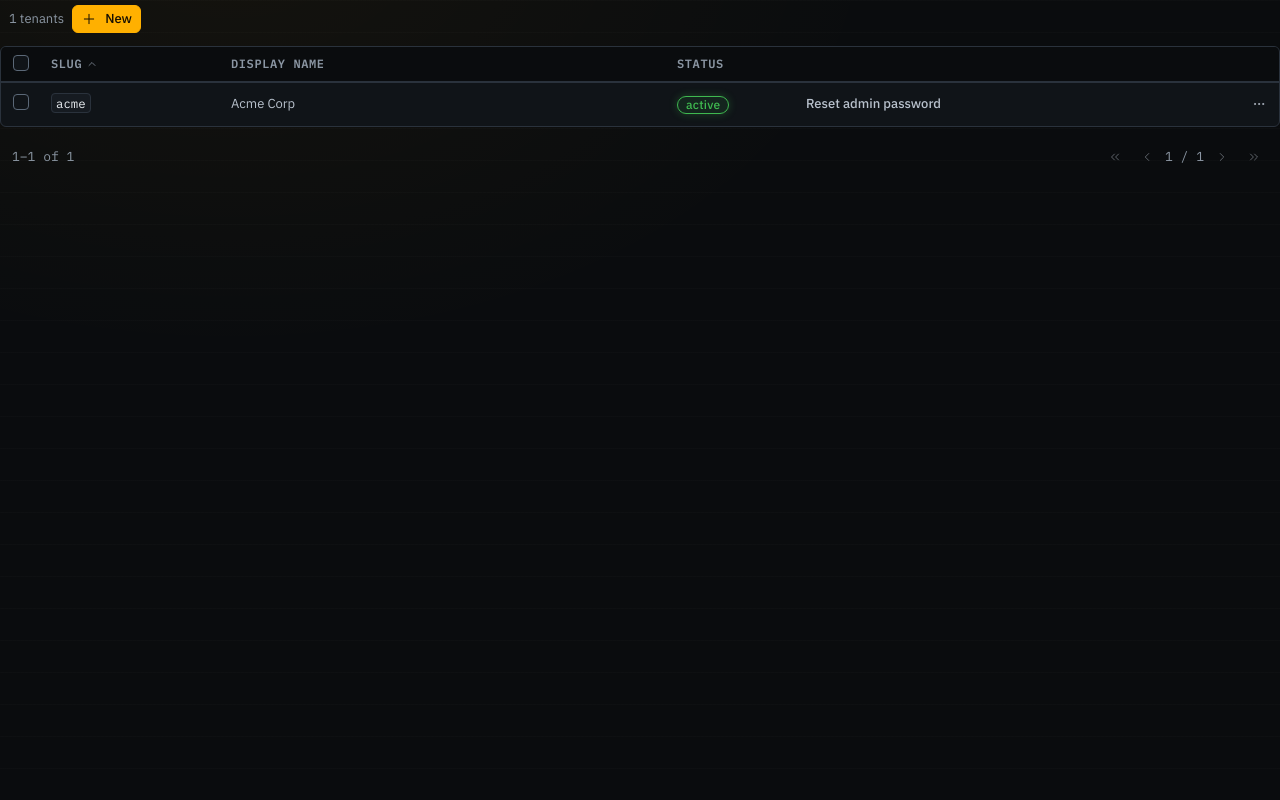
Scenario: TenantsPage › confirms, then shows the one-time password after Reset admin password
Click the button "Reset admin password": point(874, 104) [797,90,950,118]
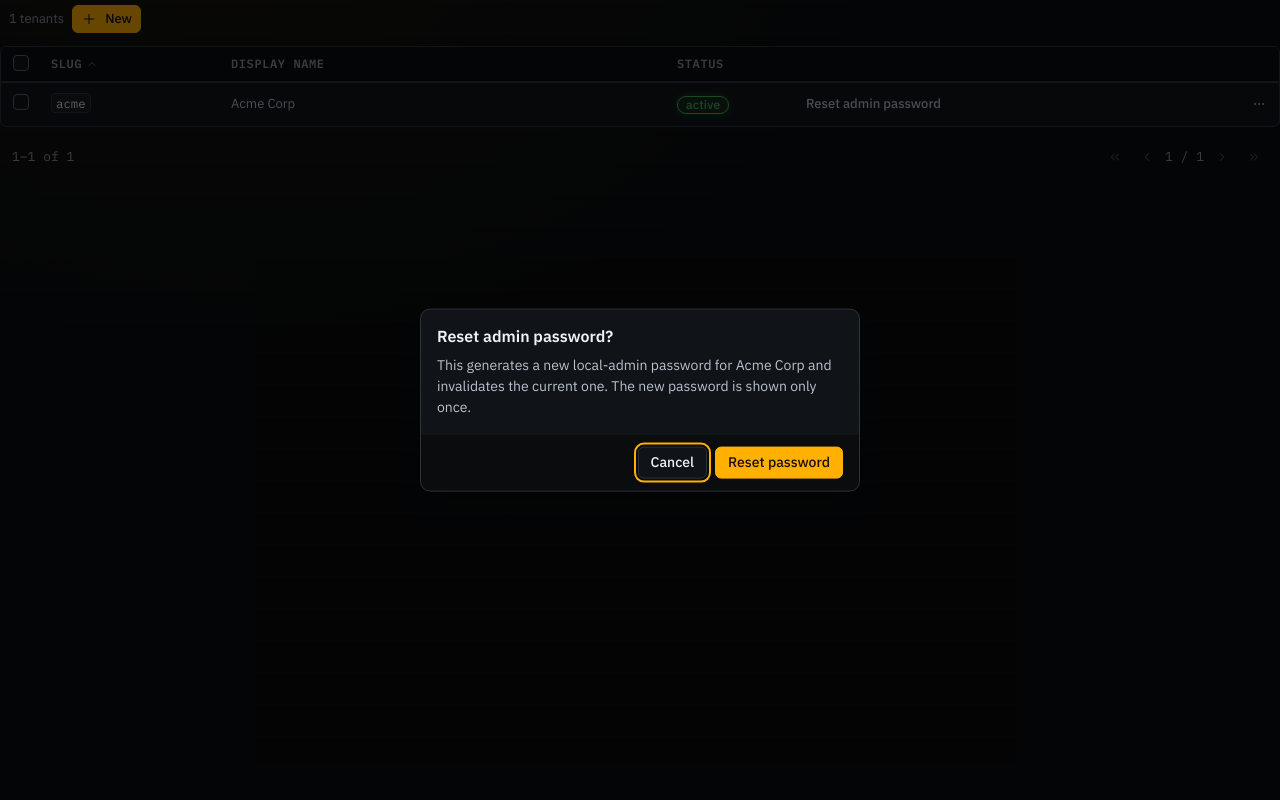
Expected: the field showing "NEWPWNEWPWNEWPWNEWPWNEWPWNEWPWNE" is not shown
Now the heading "Reset admin password?" is shown, box [437,326,613,346]
Click the button "Reset password": point(779, 462) [715,446,843,478]
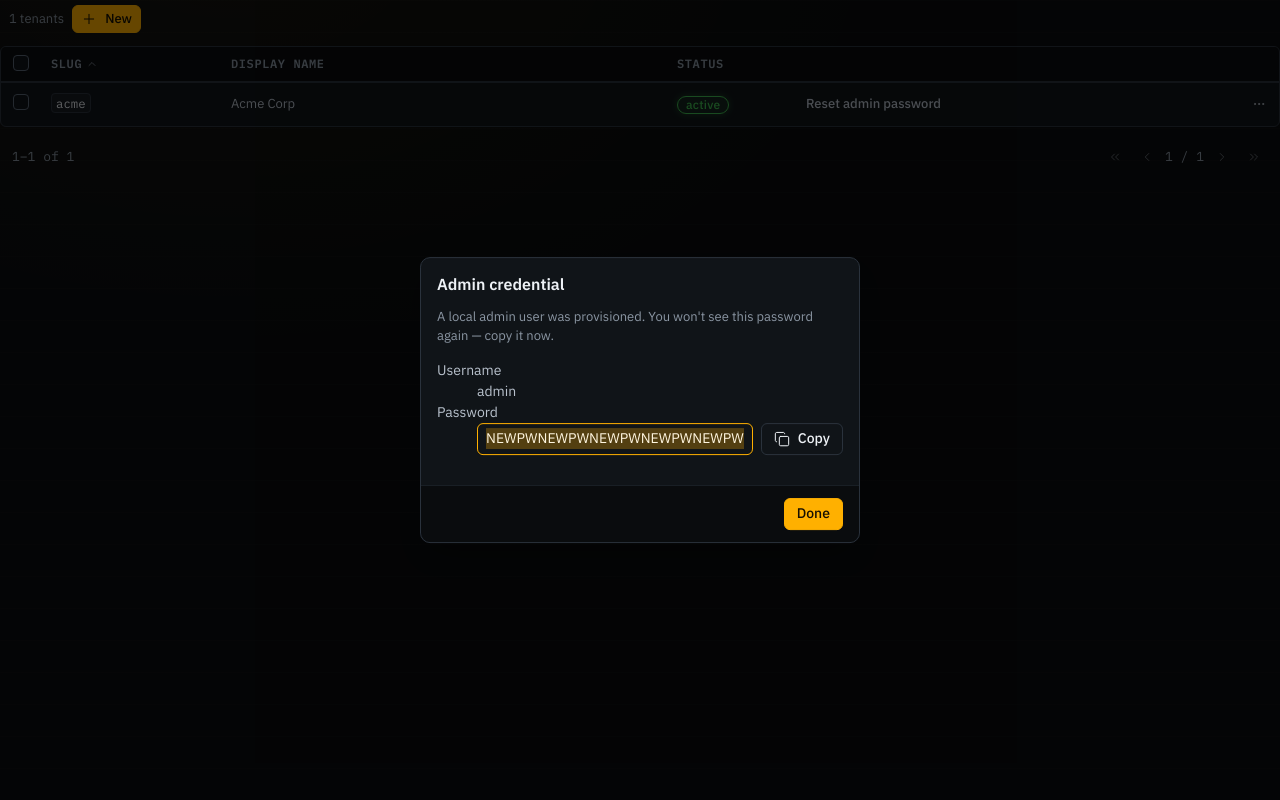
Now the field showing "NEWPWNEWPWNEWPWNEWPWNEWPWNEWPWNE" is shown, box [478,428,752,449]
